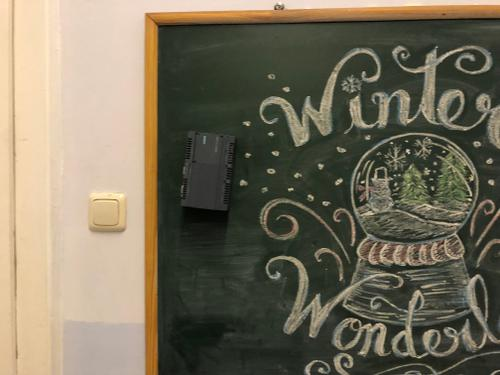device: (181, 131, 236, 212)
